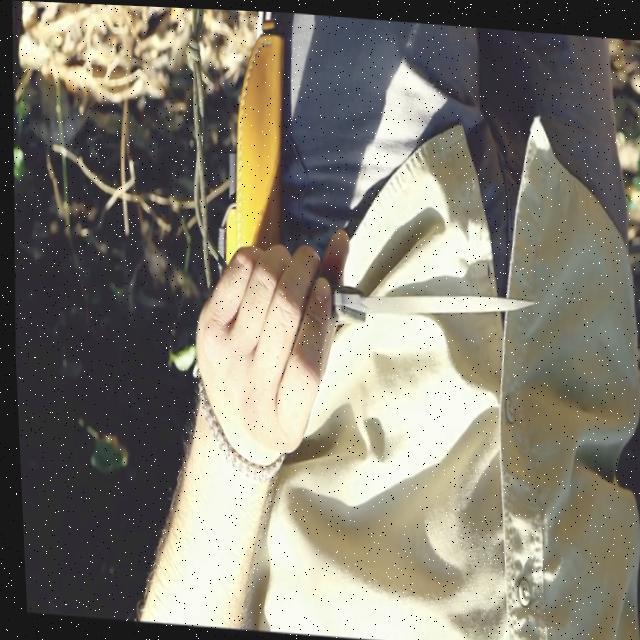knife: (317, 248, 540, 357)
